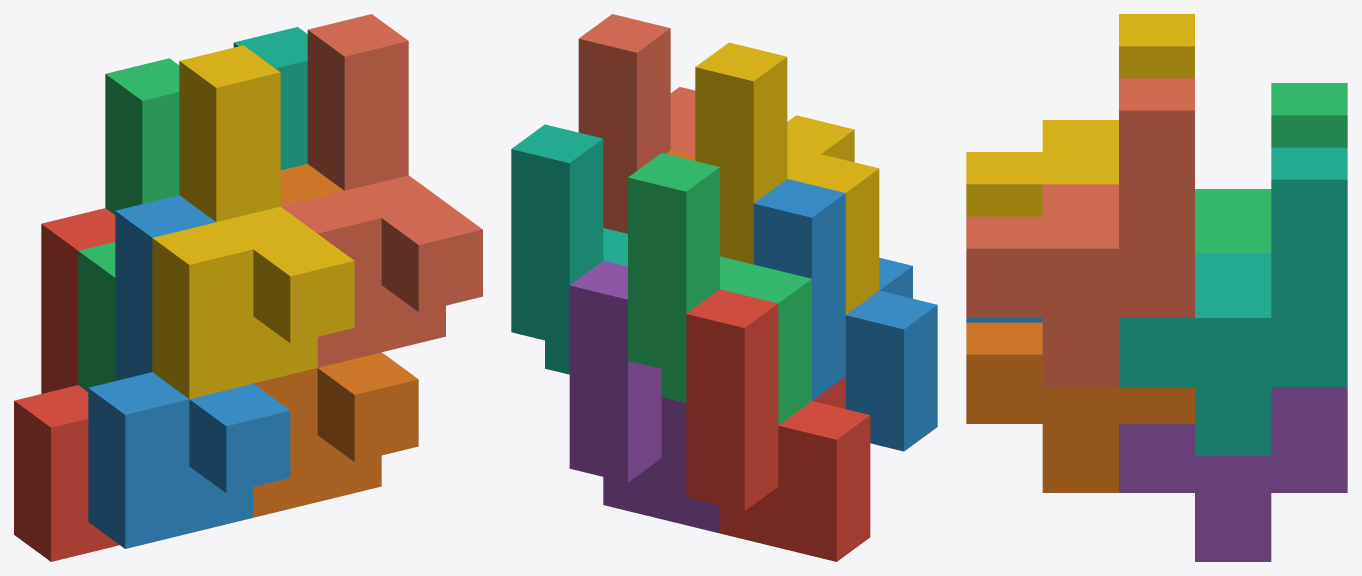
The model's file is tiling.obj.
The picture shows the model from 3 angles, left to right: view 1: azimuth 30°, elevation 25°; view 2: azimuth 150°, elevation 25°; view 3: azimuth 270°, elevation 25°; orthographic projection. The views are drawn at different scales.
Parts seen in each view (by area): view 1: copy_1_domain_4, copy_1_domain_8, copy_1_domain_2, copy_1_domain_1, copy_1_domain_6, copy_1_domain_3, copy_1_domain_7; view 2: copy_1_domain_1, copy_1_domain_2, copy_1_domain_3, copy_1_domain_4, copy_1_domain_5, copy_1_domain_7, copy_1_domain_8; view 3: copy_1_domain_8, copy_1_domain_7, copy_1_domain_5, copy_1_domain_6, copy_1_domain_4, copy_1_domain_3.
Boxes of the visible parts, box(x1,y1,x2,y2) form: copy_1_domain_4: box(152, 45, 354, 398); copy_1_domain_8: box(281, 14, 482, 367); copy_1_domain_2: box(88, 195, 290, 548); copy_1_domain_1: box(14, 208, 119, 561); copy_1_domain_6: box(253, 164, 418, 517); copy_1_domain_3: box(78, 58, 179, 391); copy_1_domain_7: box(233, 27, 307, 170); copy_1_domain_1: box(686, 289, 870, 561); copy_1_domain_2: box(753, 179, 937, 451); copy_1_domain_3: box(628, 153, 811, 425); copy_1_domain_4: box(695, 42, 879, 314); copy_1_domain_5: box(569, 261, 719, 533); copy_1_domain_7: box(511, 124, 627, 374); copy_1_domain_8: box(578, 14, 695, 233); copy_1_domain_8: box(966, 78, 1194, 386); copy_1_domain_7: box(1119, 147, 1347, 455); copy_1_domain_5: box(1119, 387, 1347, 561); copy_1_domain_6: box(966, 322, 1194, 492); copy_1_domain_4: box(966, 14, 1194, 216); copy_1_domain_3: box(1195, 83, 1347, 253).
Bounding box in the file's own units: 5 × 7 × 5.
